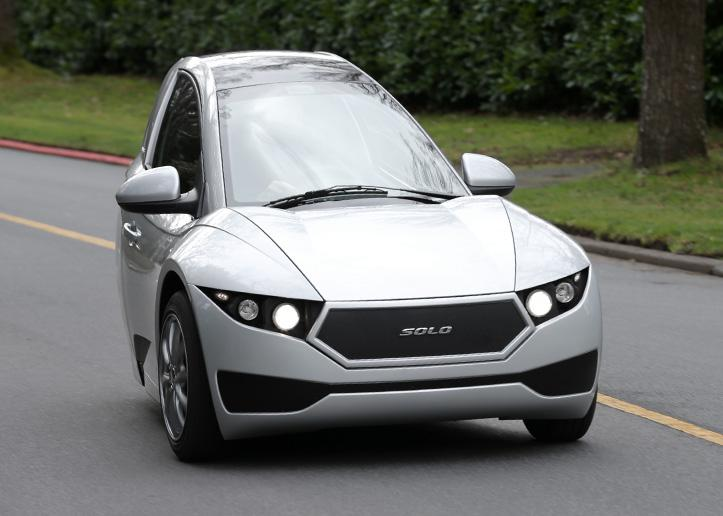car: (91, 32, 633, 470)
